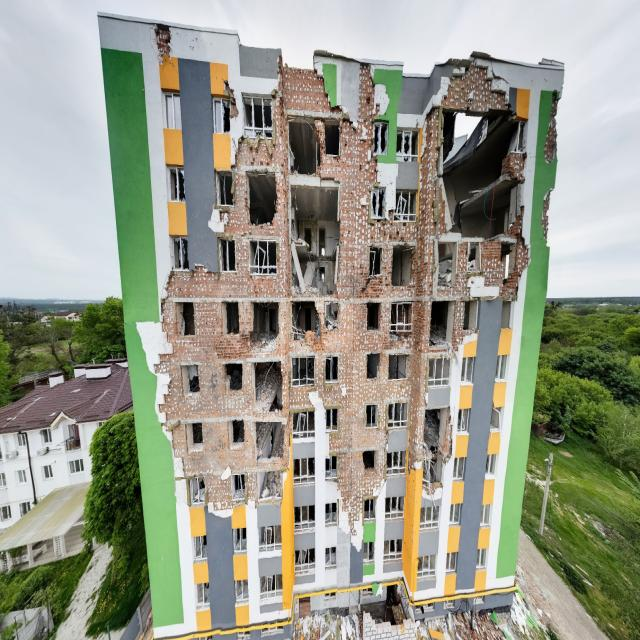broken_window: (243, 97, 271, 138), (396, 134, 420, 165), (395, 189, 416, 223), (428, 354, 450, 386), (257, 527, 282, 551), (216, 170, 233, 205), (168, 167, 184, 204), (294, 457, 315, 485), (171, 237, 188, 271), (260, 575, 285, 598), (215, 98, 230, 133), (295, 507, 315, 533), (385, 498, 405, 523), (386, 451, 405, 477), (296, 549, 315, 574), (195, 582, 210, 611), (375, 122, 388, 155), (232, 525, 247, 553), (262, 616, 283, 636), (384, 541, 403, 562), (417, 555, 436, 575), (420, 508, 439, 527), (236, 580, 248, 606), (462, 360, 474, 384), (490, 406, 502, 430), (325, 502, 338, 524), (325, 455, 337, 477), (365, 496, 376, 520), (450, 502, 461, 526), (454, 458, 465, 480), (417, 601, 434, 615), (497, 355, 507, 378), (326, 546, 336, 568), (459, 411, 469, 433), (363, 541, 374, 560), (447, 554, 457, 573), (486, 455, 495, 473), (363, 585, 373, 596), (444, 598, 455, 606), (326, 594, 337, 600), (475, 596, 482, 605)
building: (98, 13, 566, 638)
damage: (158, 34, 561, 514), (138, 68, 531, 547), (385, 582, 409, 618), (221, 74, 239, 118), (310, 387, 329, 421), (154, 33, 170, 67), (270, 58, 281, 103)
damaged_roof: (280, 49, 318, 72), (452, 54, 490, 71), (150, 23, 172, 32), (359, 59, 374, 68)
other: (159, 614, 513, 640)
roof: (99, 12, 567, 82)
